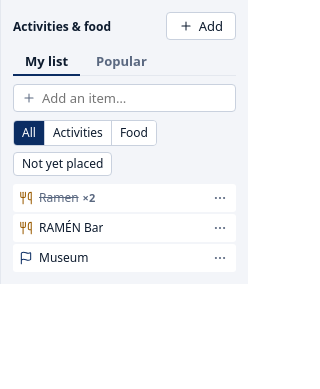
Scenario: ItemPanel › keeps drag, edit, delete and place actions with their names
Expected: the button named "Drag Museum" is shown, [19,255,35,261]
Click the button named "Actions for Museum": [220, 258] box [208,246,232,270]
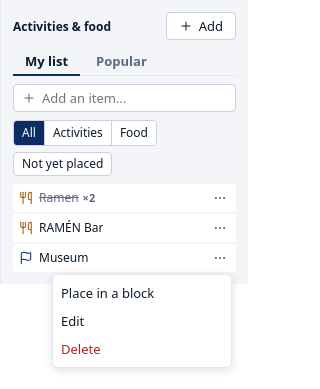
Expected: the menu item with aria-label "Edit Museum" is shown, [61,312,84,330]
Expected: the menu item with aria-label "Delete Museum" is shown, [61,340,100,358]
Expected: the menu item with aria-label "Place Museum in a block" is shown, [61,284,154,302]
